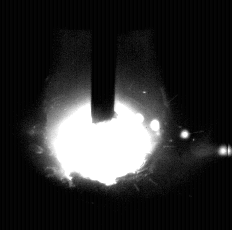arame: (92, 0, 116, 122)
poca: (44, 0, 164, 230)
